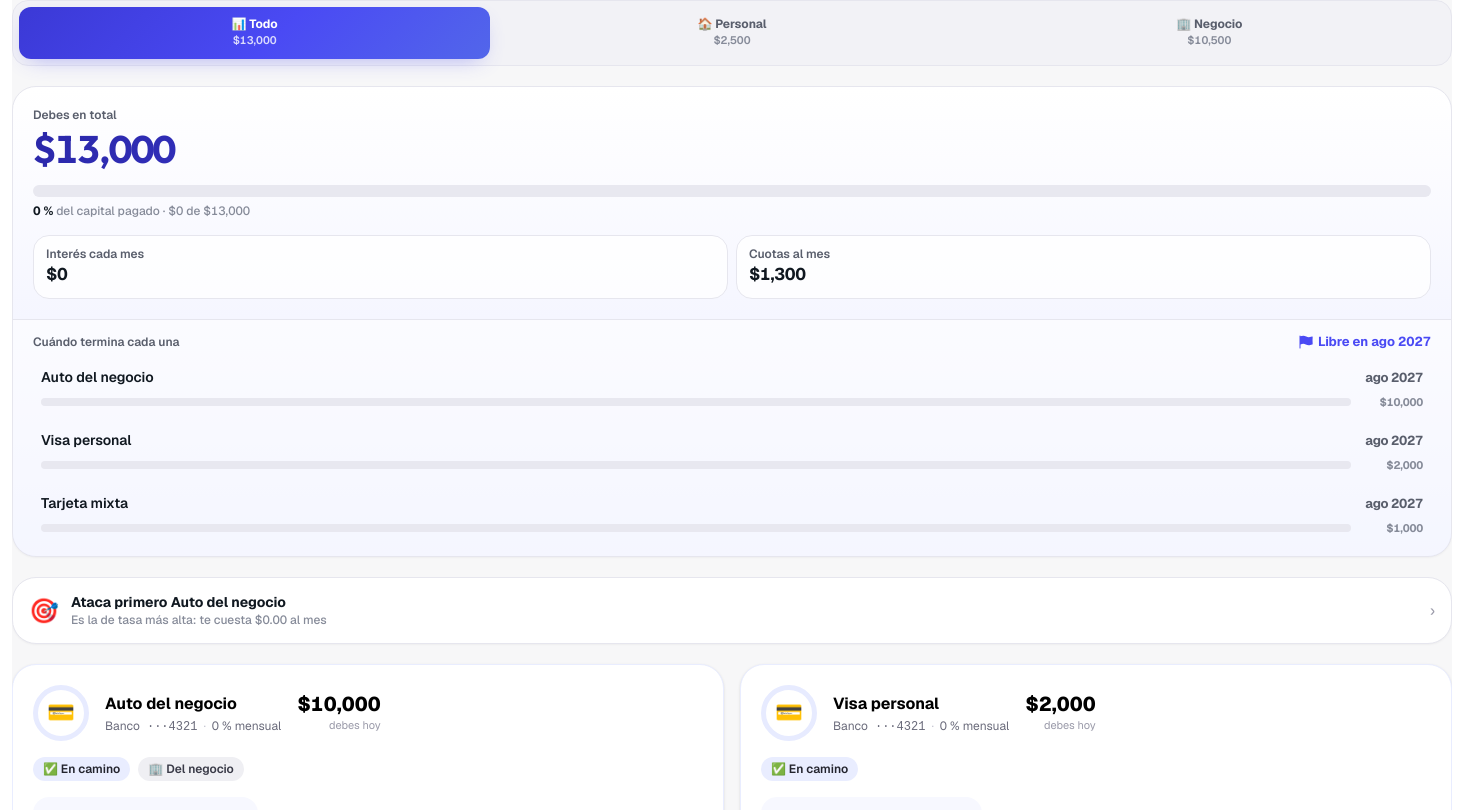
Test: DebtsView — cuándo termina cada una › una fila por deuda viva, en el ámbito que se mira
Expected: the text "Cuándo termina cada una" is shown, [33, 334, 180, 350]
Expected: the text "Auto del negocio" below "Cuándo termina cada una" is shown, [41, 368, 154, 386]
Click the button "🏠 Personal $2,500". click: (732, 33)
box: [496, 7, 968, 58]
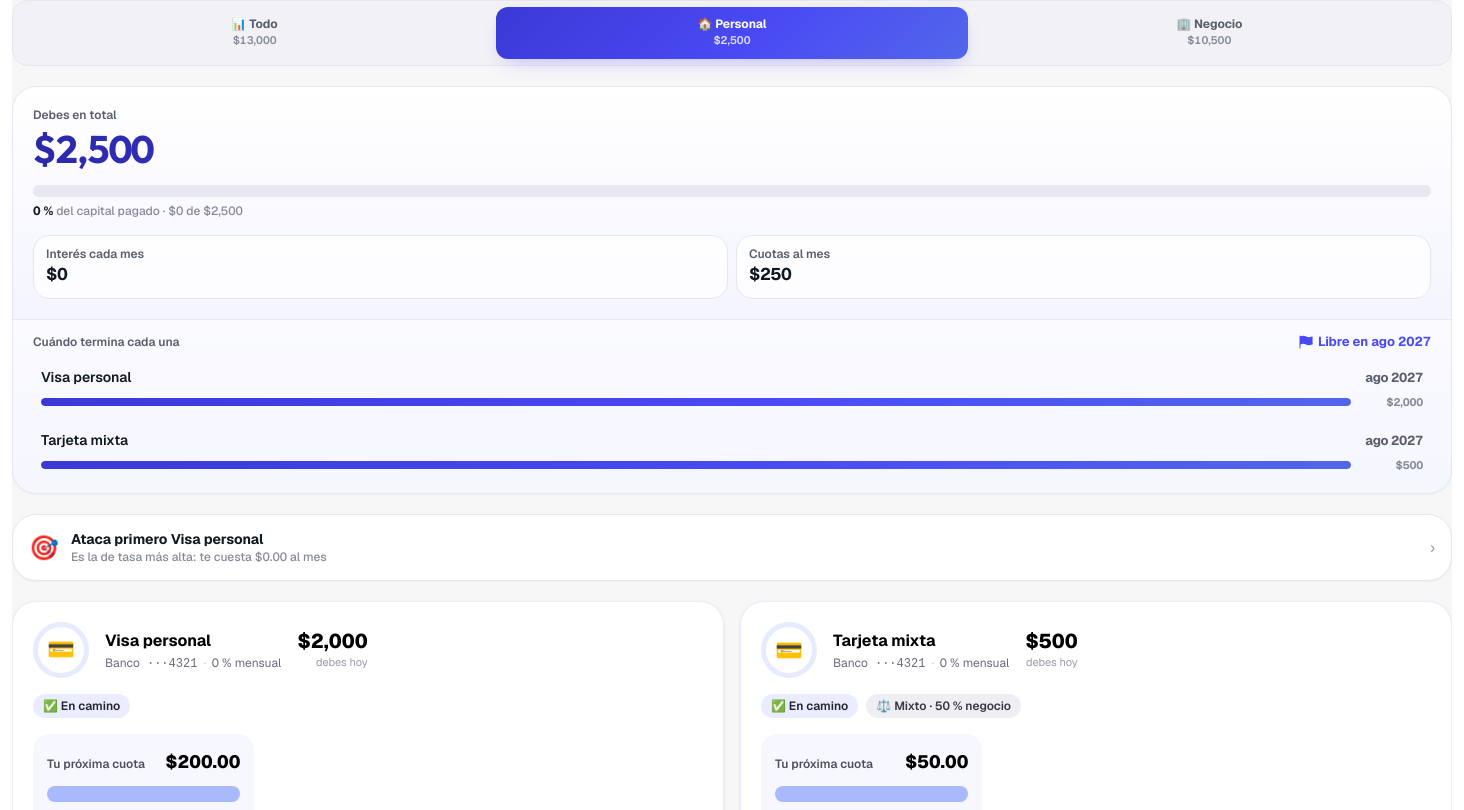
Expected: the text "Visa personal" below "Cuándo termina cada una" is shown, [41, 368, 132, 386]
Now the button "Auto del negocio" is gone
